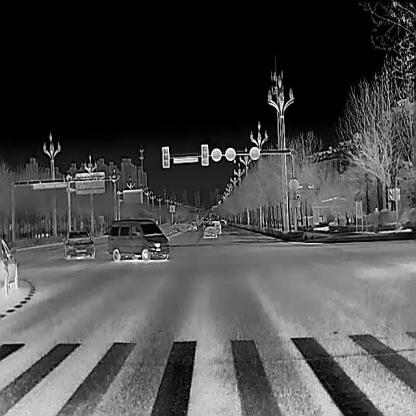car: (107, 217, 170, 260), (0, 237, 18, 296), (63, 228, 96, 260), (203, 221, 216, 237), (212, 219, 221, 234), (188, 220, 197, 229)
